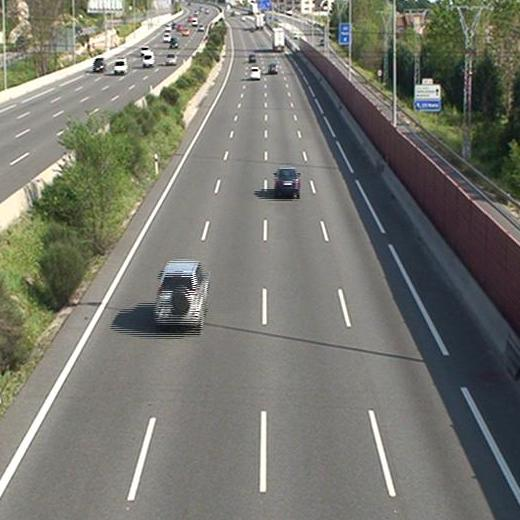car: (155, 261, 208, 321), (275, 169, 300, 195), (249, 68, 261, 79), (268, 63, 277, 72), (248, 54, 255, 61)
truck: (273, 29, 285, 51)
